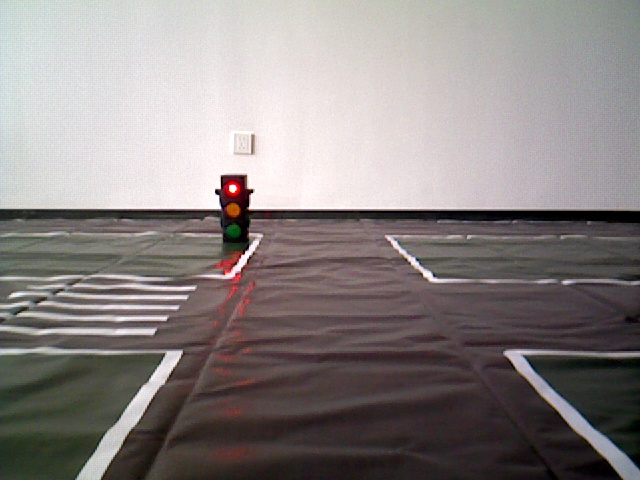red: (221, 173, 245, 243)
